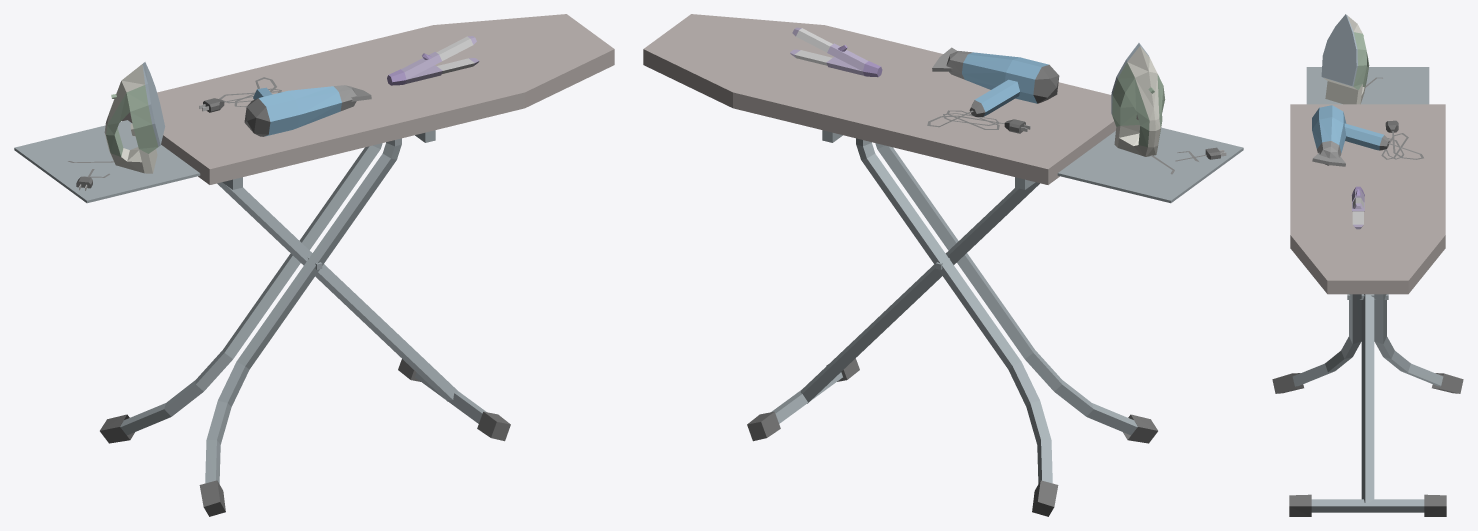
The model's file is ironing_board.glb.
3 views of the same model, side by side, from view 1: azimuth 30°, elevation 25°; view 2: azimuth 150°, elevation 25°; view 3: azimuth 270°, elevation 25° (orthographic). The views are drawn at different scales.
Visible parts, largest first — view 1: furniture_031; view 2: furniture_031; view 3: furniture_031.
Boxes of the visible parts, <box> form: furniture_031: <box>14,14,614,516</box>; furniture_031: <box>643,14,1243,516</box>; furniture_031: <box>1272,14,1463,516</box>.
Bounding box in the file's own units: 1.11 × 0.8553 × 0.4028.
